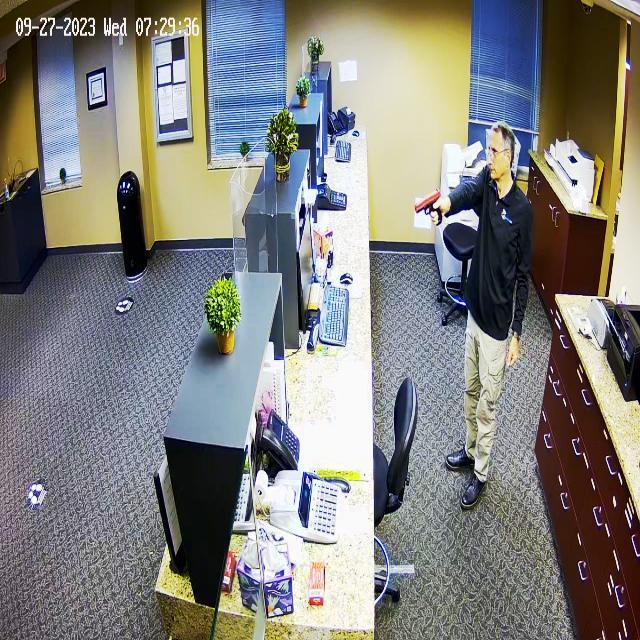Gun: (412, 178, 453, 222)
